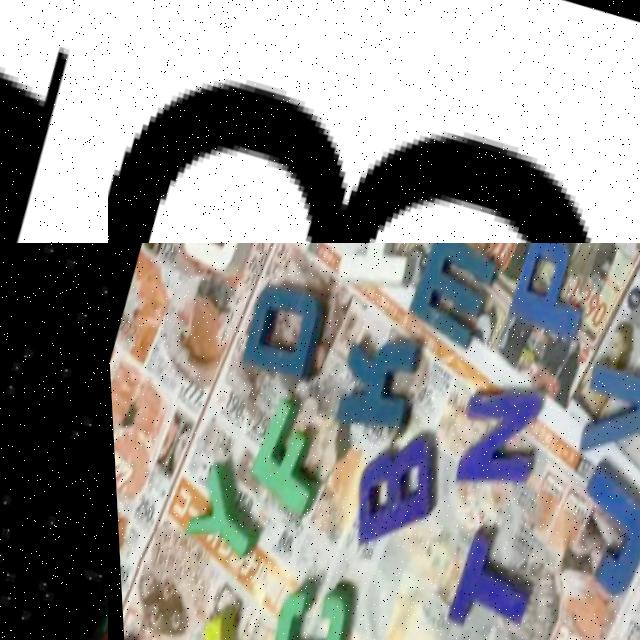3: (108, 21, 640, 243)
B: (340, 422, 443, 554)
C: (253, 572, 355, 640)
D: (232, 266, 337, 388)
F: (236, 394, 336, 527)
H: (325, 243, 434, 306)
J: (553, 460, 640, 596)
K: (323, 326, 425, 439)
M: (402, 243, 512, 342)
N: (442, 371, 549, 500)
P: (0, 62, 63, 243), (497, 243, 600, 348)
Q: (170, 243, 272, 284)
T: (442, 519, 542, 637)
V: (564, 343, 640, 472)
Y: (172, 456, 266, 569)
